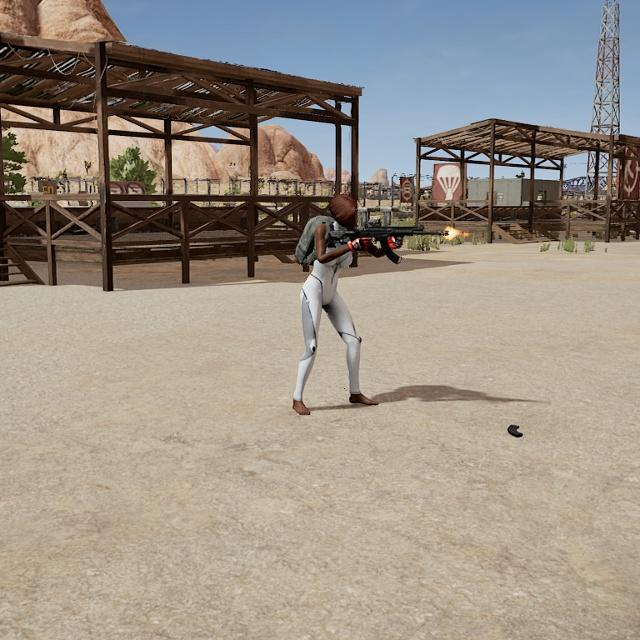head: (328, 193, 360, 229)
people: (290, 191, 381, 417)
